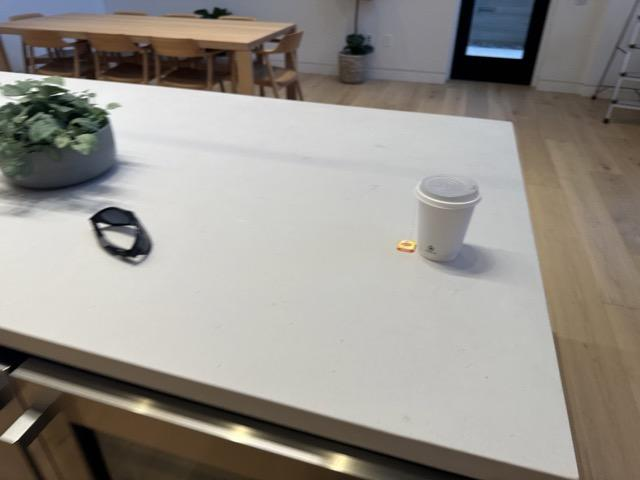Sunglasses: (90, 205, 153, 262)
